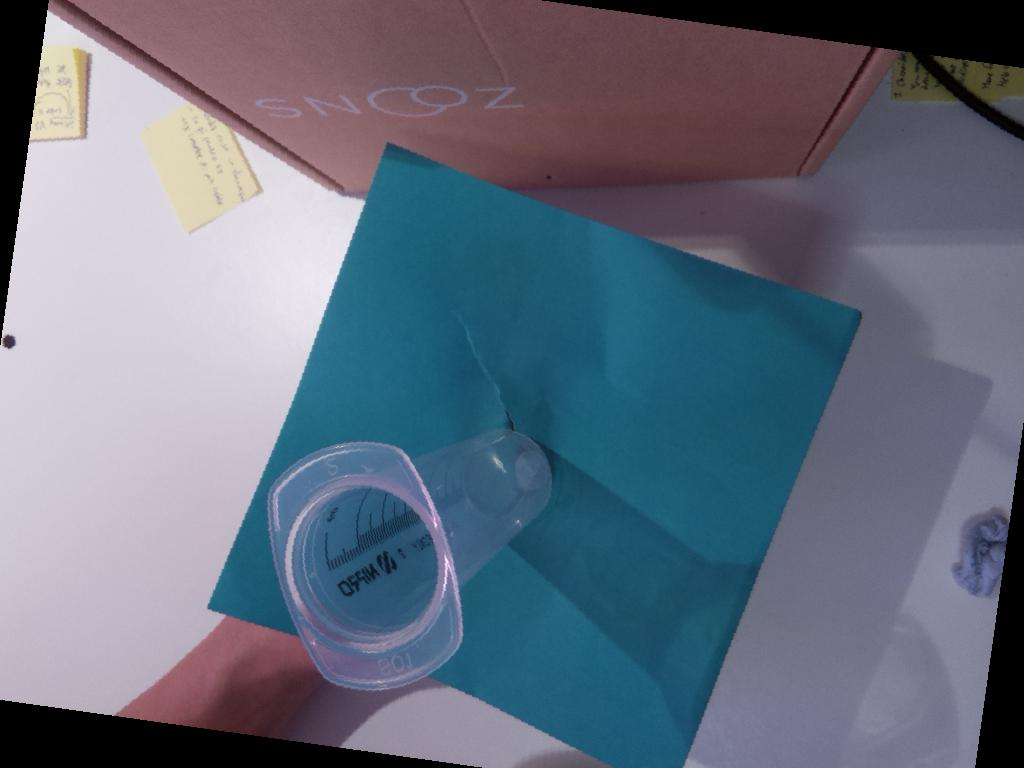clean: (262, 439, 467, 690)
